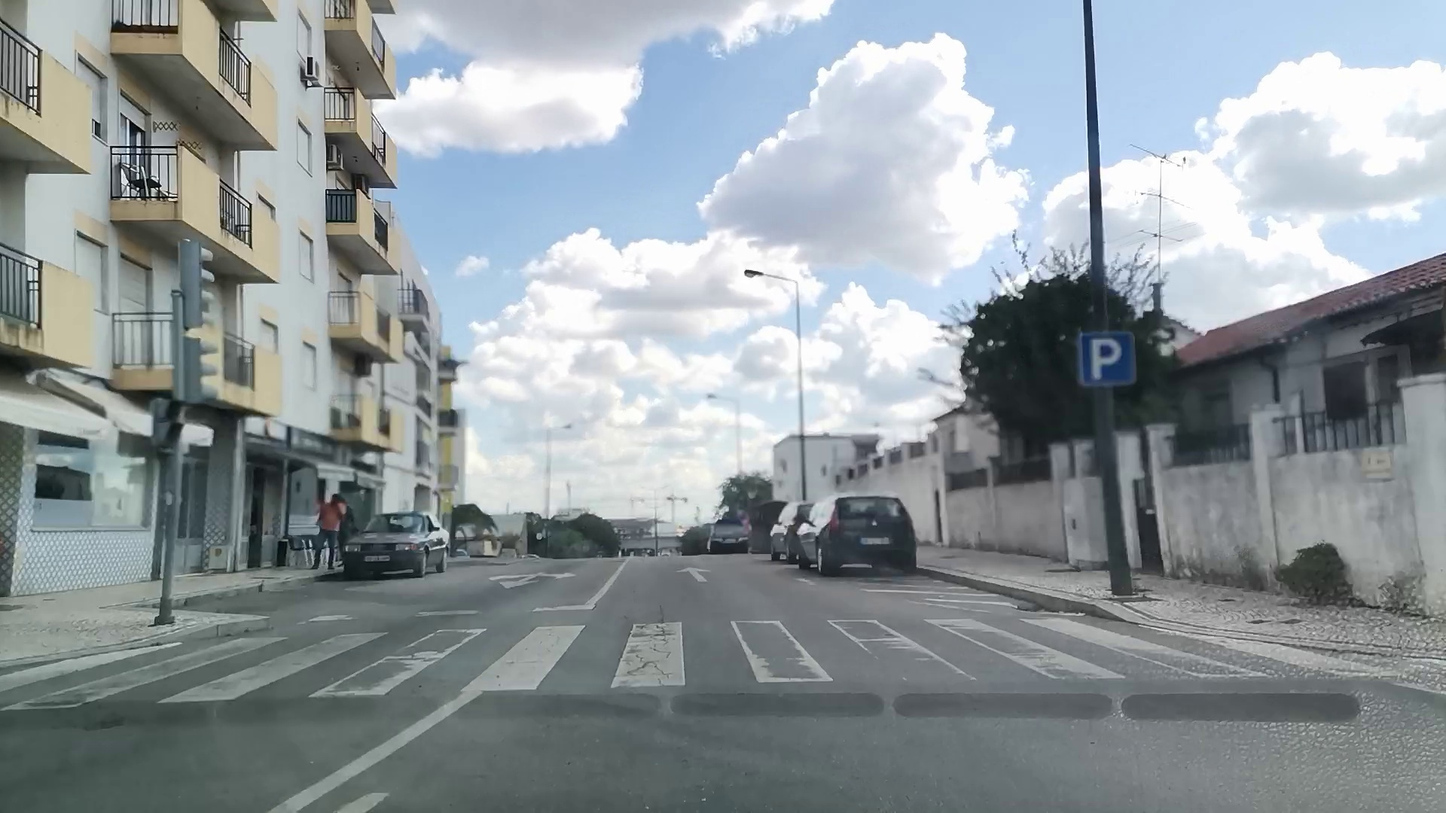Stairs: (4, 619, 1392, 709)
